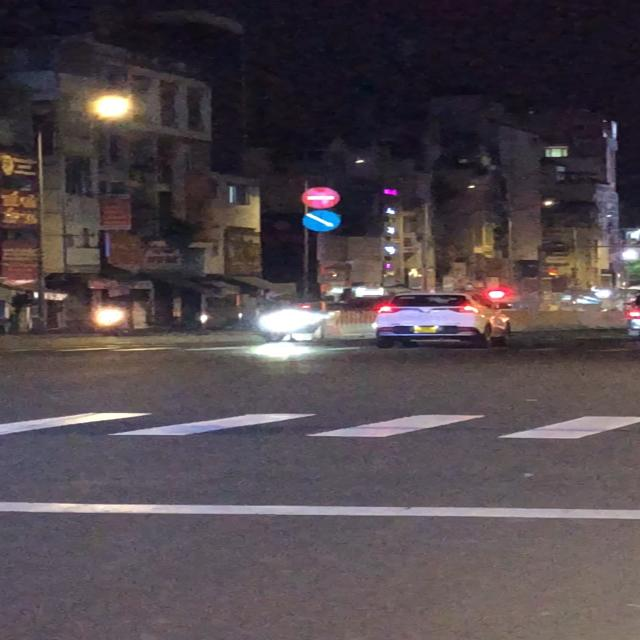Bien bao cam di nguoc chieu: (300, 186, 344, 209)
Bien bao huong phai di vong chuong ngai vat: (300, 209, 345, 233)
